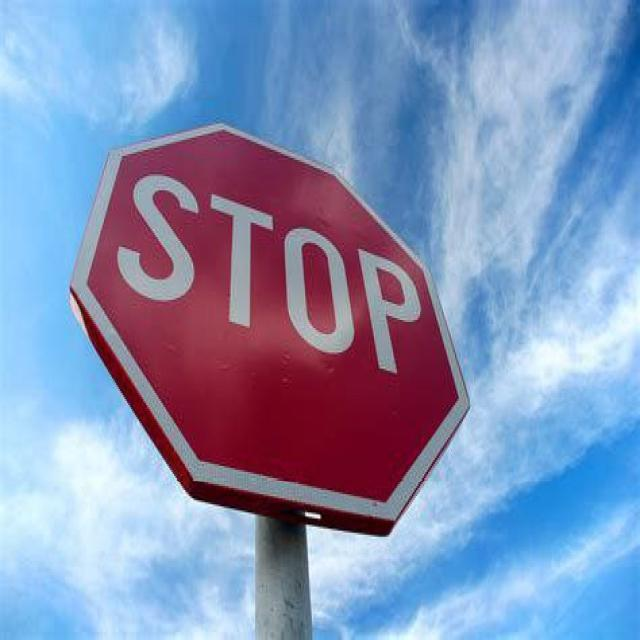stop: (84, 114, 465, 546)
